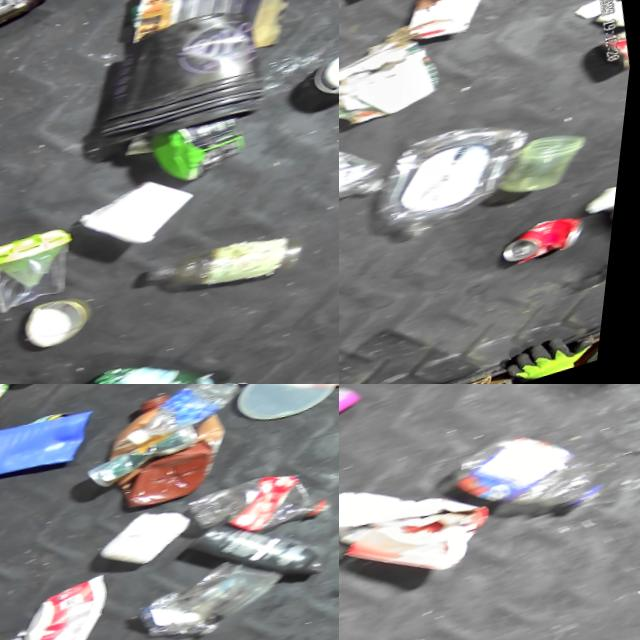can: (82, 426, 208, 498), (502, 217, 604, 283), (24, 291, 110, 360), (400, 0, 500, 56)
non_white_jug: (93, 384, 247, 523), (0, 397, 108, 508)
plastic_bottle: (366, 113, 555, 259), (446, 419, 620, 552), (184, 461, 339, 559), (118, 384, 250, 453), (339, 112, 408, 241)
